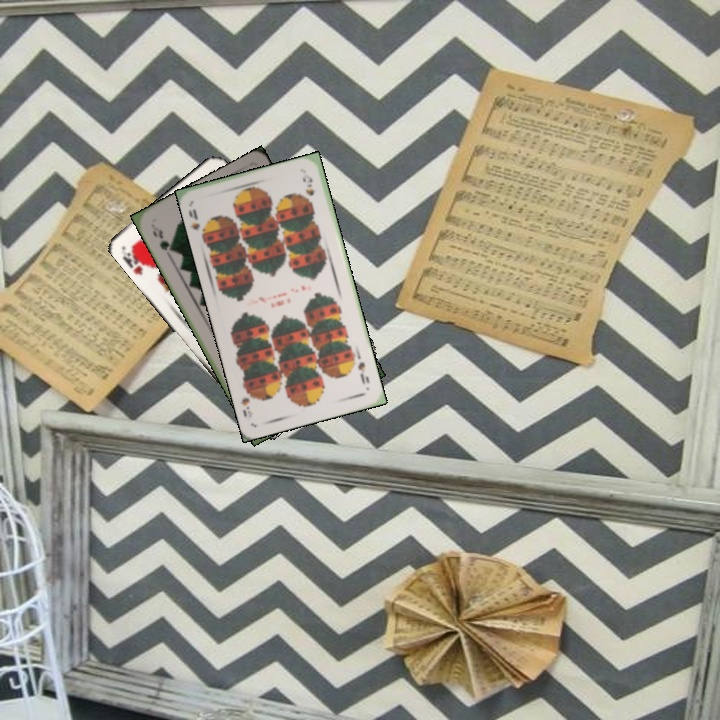G9: (148, 222, 176, 256)
HK: (118, 243, 151, 278)
S9: (184, 205, 210, 241), (354, 358, 372, 387)
